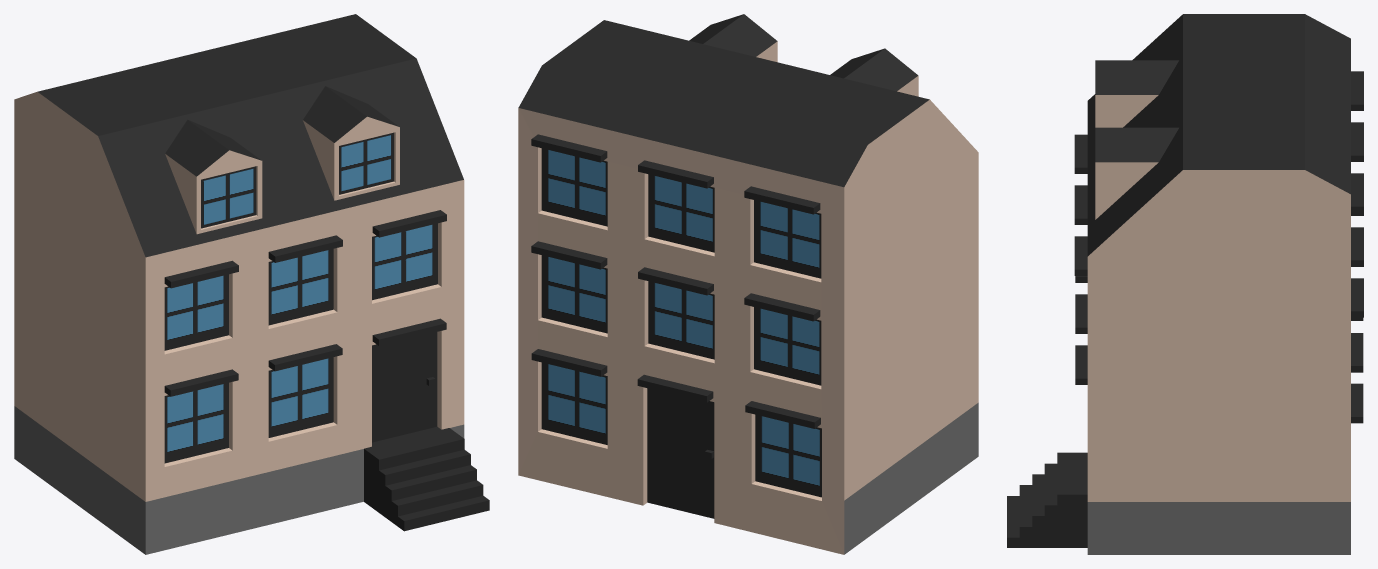
Rendered from NormalSquereBeige.obj.
The picture shows the model from 3 angles, left to right: view 1: azimuth 30°, elevation 25°; view 2: azimuth 150°, elevation 25°; view 3: azimuth 270°, elevation 25°; orthographic projection. The views are drawn at different scales.
Visible parts, largest first — view 1: ZwyklayKwadratowyBezowy; view 2: ZwyklayKwadratowyBezowy; view 3: ZwyklayKwadratowyBezowy.
Boxes of the visible parts, x1,y1,x2,y2 form: ZwyklayKwadratowyBezowy: [14, 14, 489, 554]; ZwyklayKwadratowyBezowy: [518, 14, 978, 554]; ZwyklayKwadratowyBezowy: [1007, 14, 1363, 554].
Size of the model in its own units: 7 by 8.07 by 6.78.
